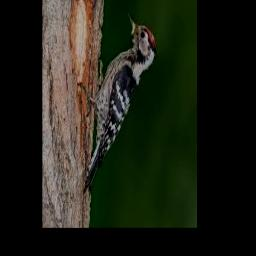Woodpecker: (78, 14, 157, 191)
